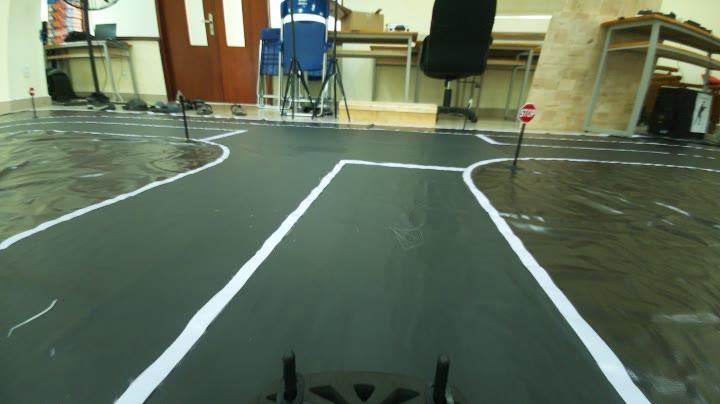stop: (515, 101, 540, 125)
